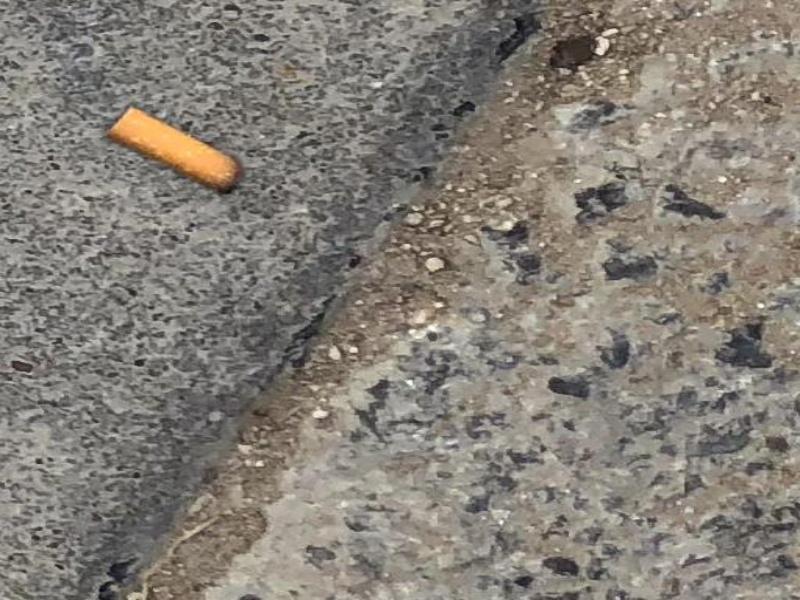cig: (110, 100, 244, 195)
